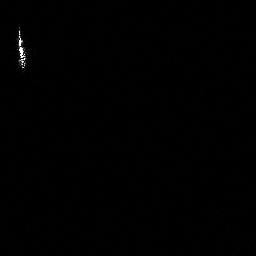ship: (16, 24, 29, 74)
